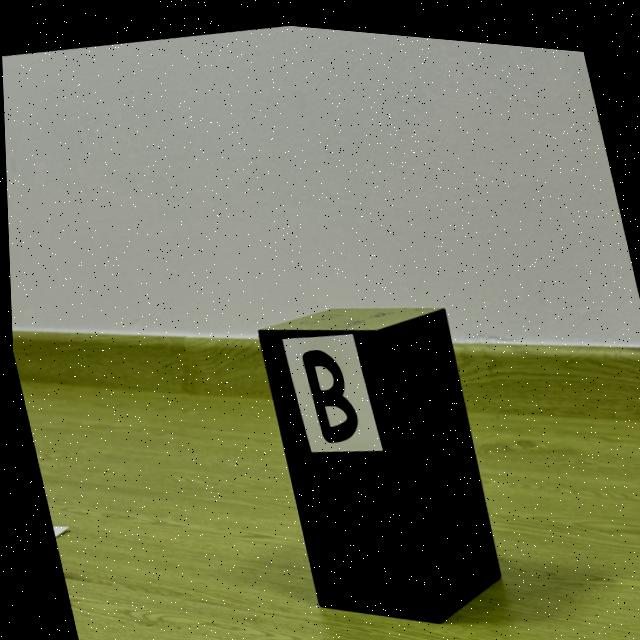B: (300, 344, 355, 437)
